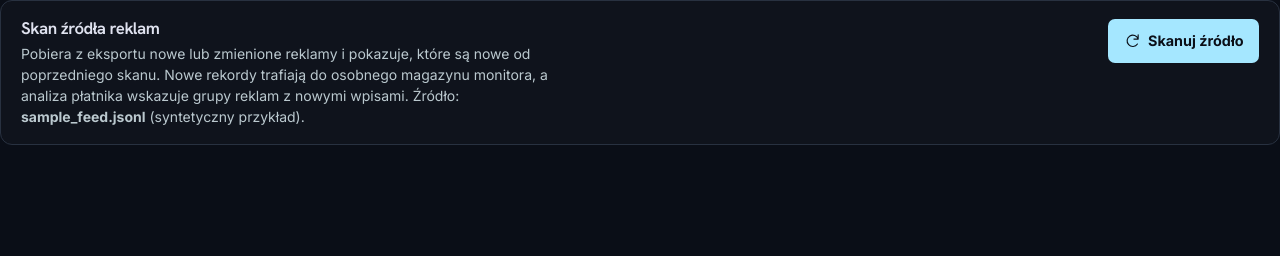
skan źródła reklam › błąd skanu pokazuje komunikat zamiast pustego wyniku
Step 1. Click the button "Skanuj źródło" → x=1184, y=41, box [1108,19,1259,63]
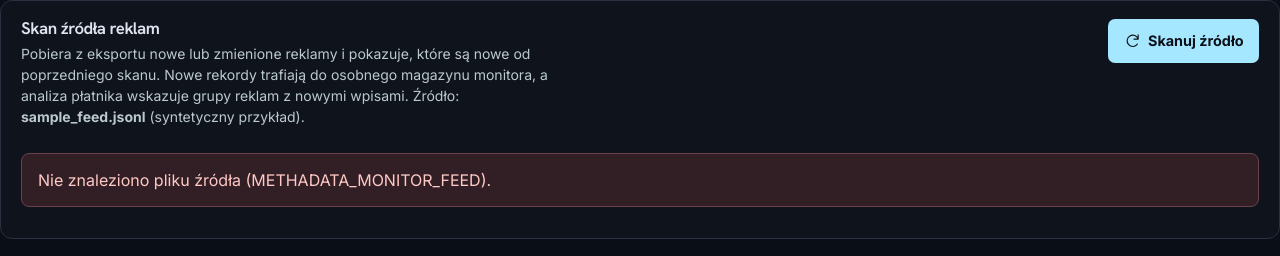
Result: the message shows "Nie znaleziono pliku źródła" at [38,170,491,190]
